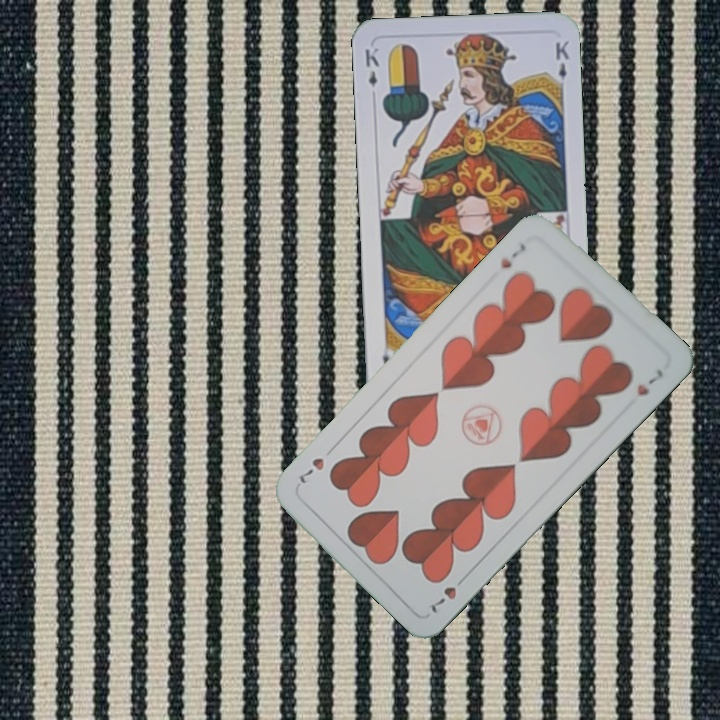EK: (361, 43, 381, 90)
H7: (425, 570, 471, 617), (496, 239, 529, 272)
